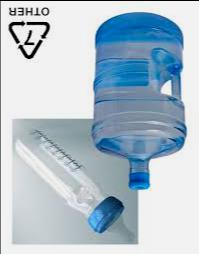Plastic: (88, 10, 187, 190)
